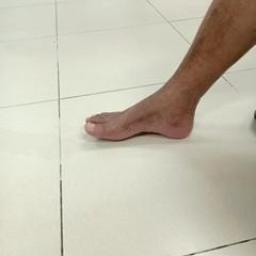Medial View -Right Foot-: (63, 71, 223, 157)
